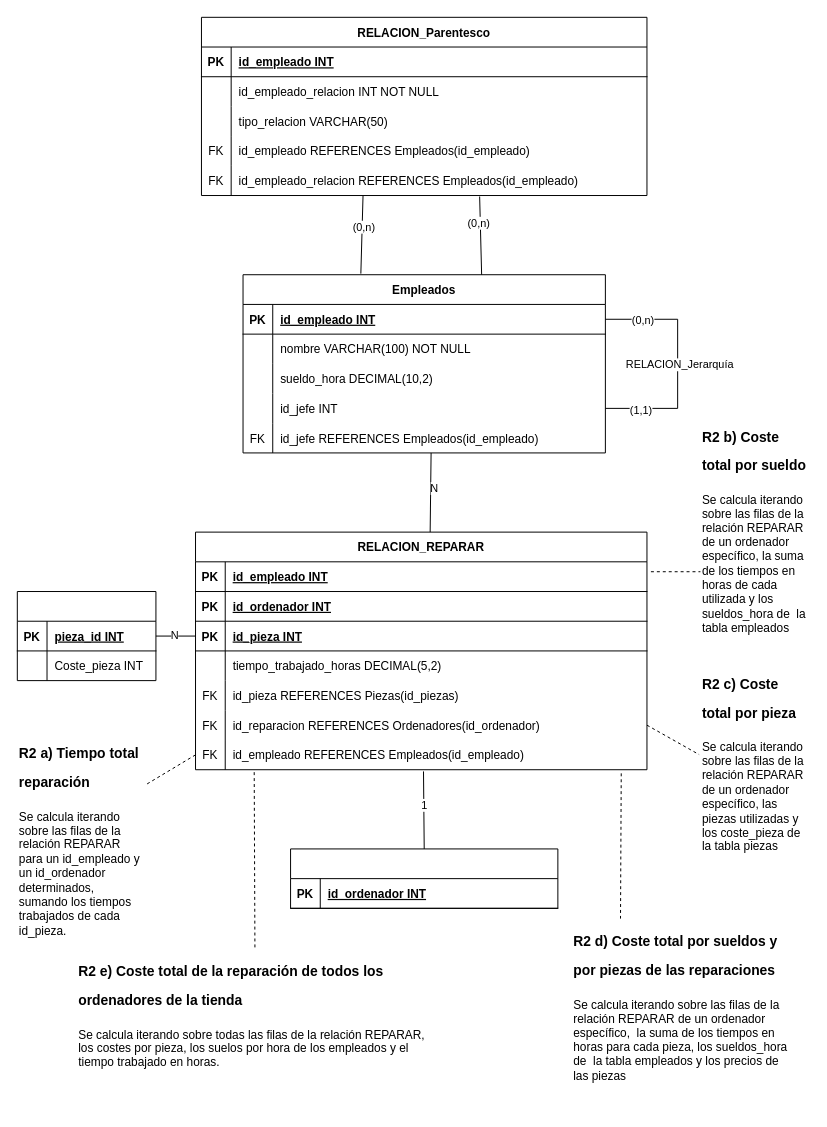
Image size: 827x1127. Some labels were removed from this diagram. The shapes that lost their labels are listed below. From the top down, each one's box as (x1, y1, x2, y2) in pixels, then its label:
(16, 591, 156, 681): Piezas
(290, 848, 558, 908): Ordenadores
